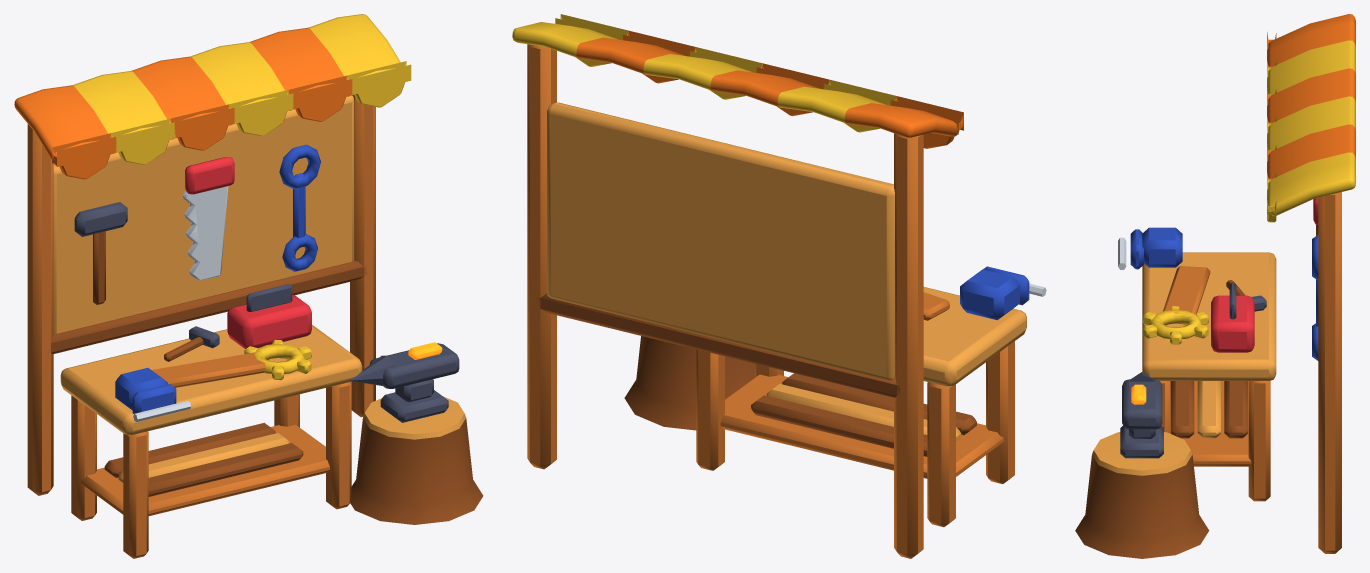
The model's file is workshop.glb.
3 renders of one model, left to right at view 1: azimuth 30°, elevation 25°; view 2: azimuth 150°, elevation 25°; view 3: azimuth 270°, elevation 25°, orthographic. The views are drawn at different scales.
Parts seen in each view (by area): view 1: workshop; view 2: workshop; view 3: workshop.
Boxes of the visible parts, x1,y1,x2,y2 form: workshop: [14, 14, 483, 558]; workshop: [512, 14, 1046, 558]; workshop: [1075, 14, 1355, 558].
Size of the model in its own units: 2.38 by 2.51 by 1.67.
